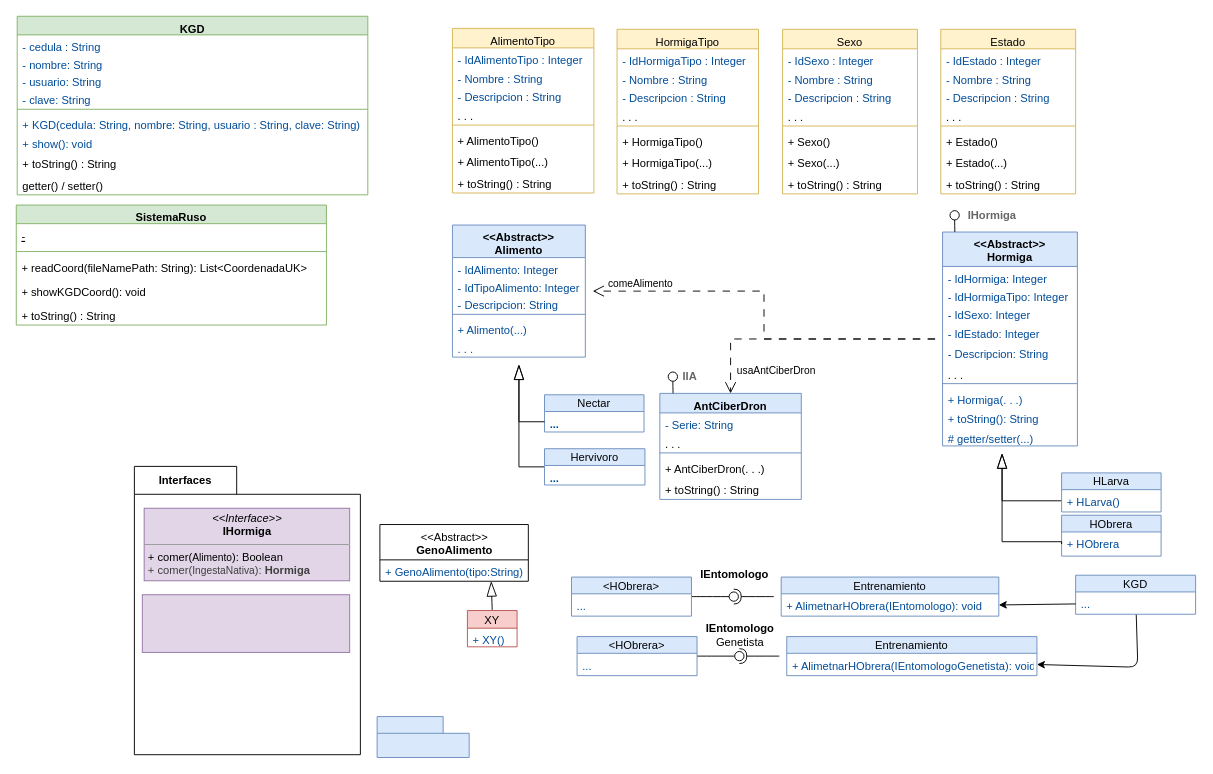
Image size: 1213x774. Some labels were removed from this diagram. Here are the shapes that lost their labels. From the top down, the centre of each, then its label:
At pixel 245 623: "<<Interface>> IEntomólogo + alimentar (H.Obrera : String) : Boolean".
At pixel 422 736: "Resource".
